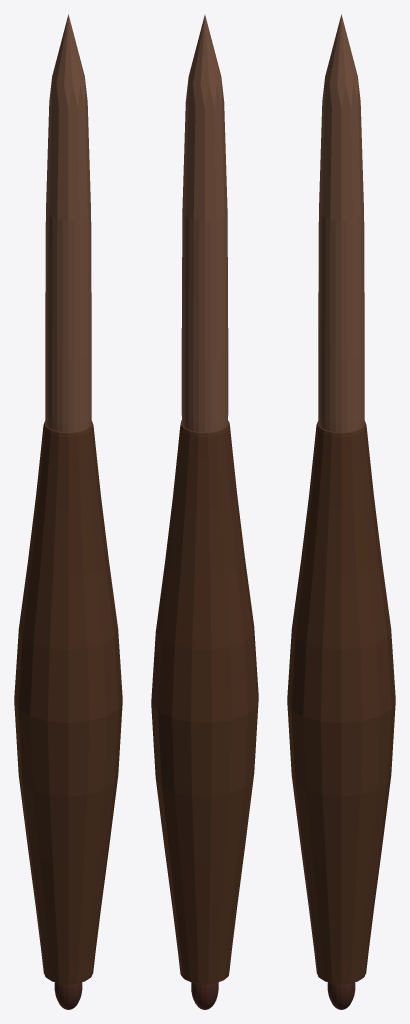
The model's file is Wand 106.glb.
3 views of the same model, side by side, from view 1: azimuth 90°, elevation 25°; view 2: azimuth 210°, elevation 25°; view 3: azimuth 270°, elevation 25° (orthographic).
Parts seen in each view (by area): view 1: GeneratedWand; view 2: GeneratedWand; view 3: GeneratedWand.
Part boxes in pixels (bbox=[...]): GeneratedWand: bbox=[14, 14, 122, 1009]; GeneratedWand: bbox=[151, 15, 258, 1009]; GeneratedWand: bbox=[287, 14, 395, 1009].
Size of the model in its own units: 0.0499 by 0.5039 by 0.0499.
